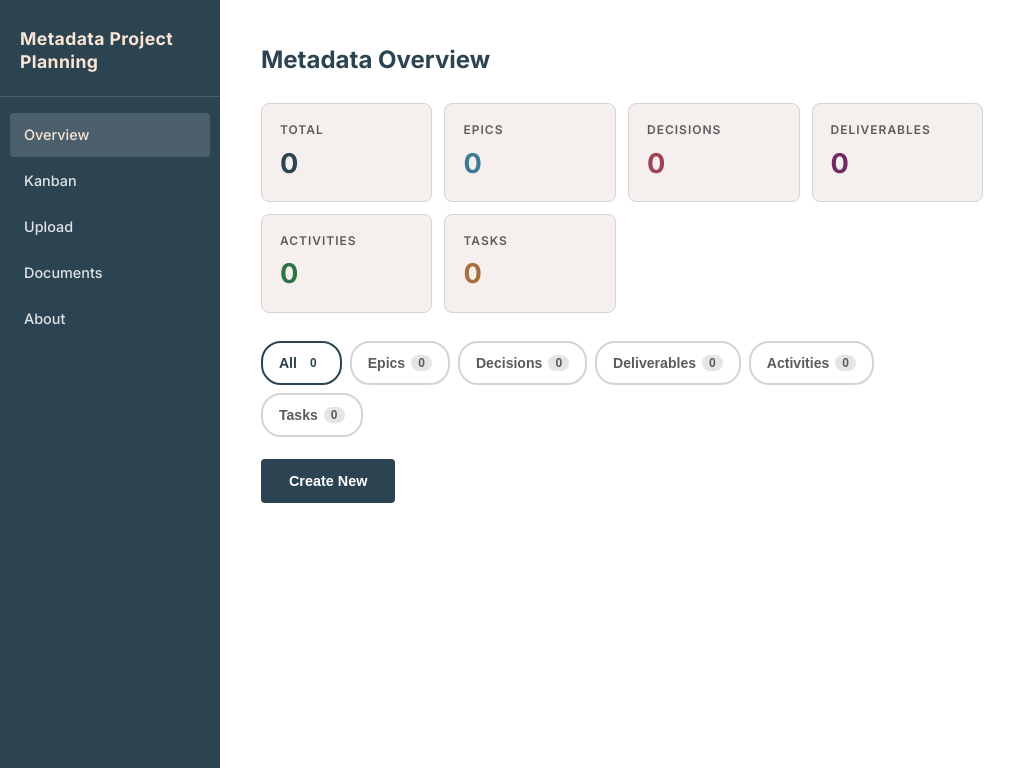
Test: App Integration Tests › navigates to Kanban page
Click the link with aria-label "Manage items on the board". click: [50, 181]
box: [24,172,77,189]
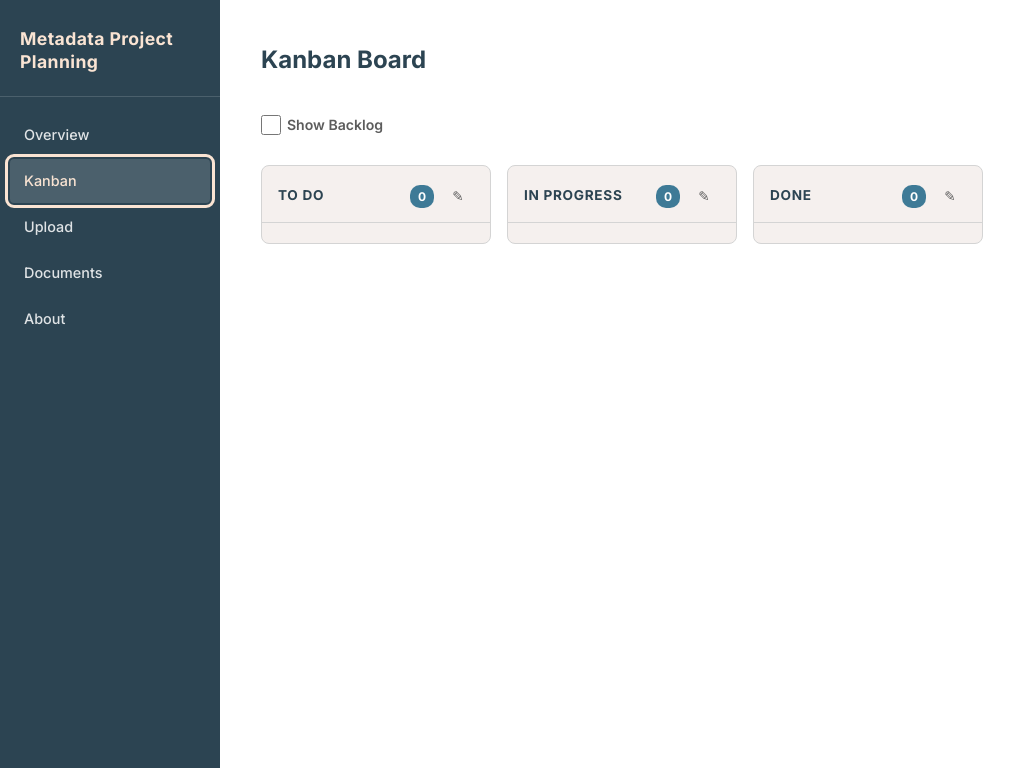
Check: the heading "Kanban Board" is shown, box [261,45,426,74]
